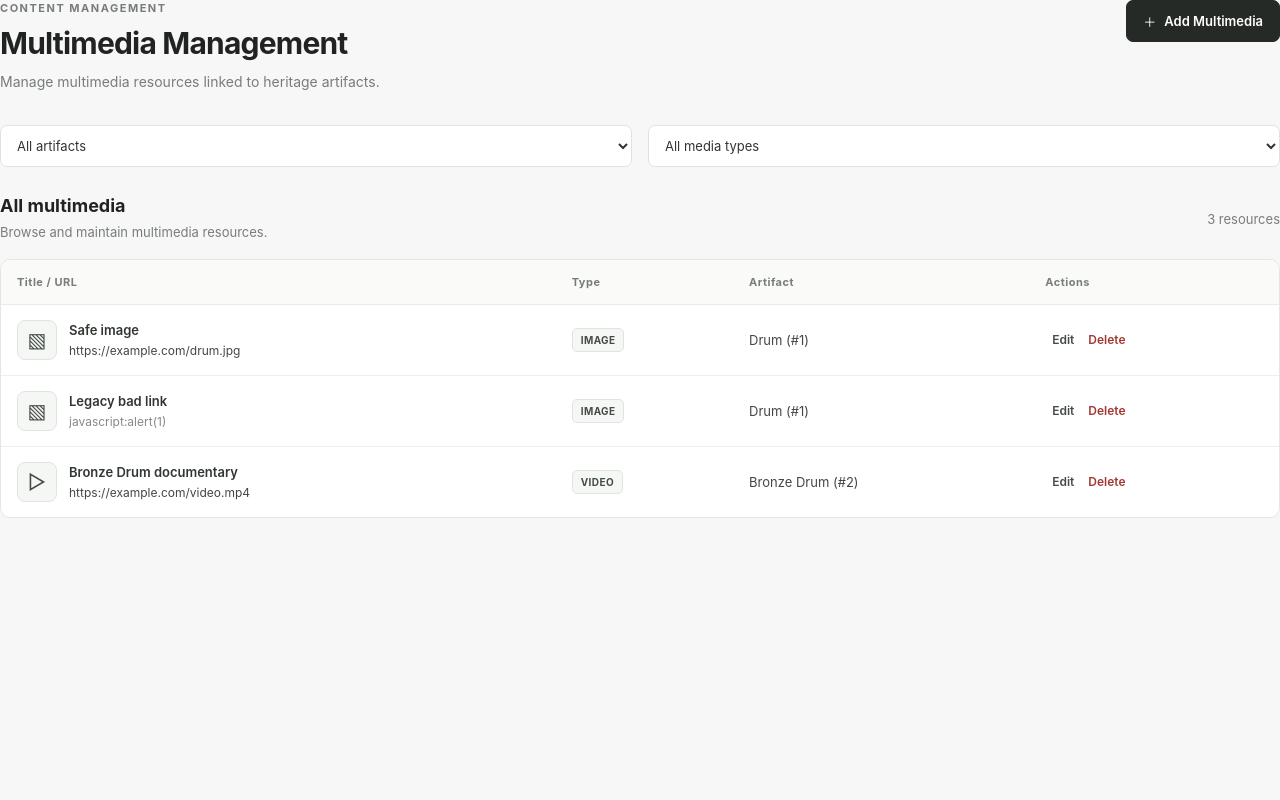
it: MultimediaPage — CRUD and filters › edits an existing resource with the correct PUT path and relationship
This screenshot has width=1280, height=800.
Click the button "Edit" in the row of "Safe image". click: [1063, 340]
box: [1045,327,1081,352]
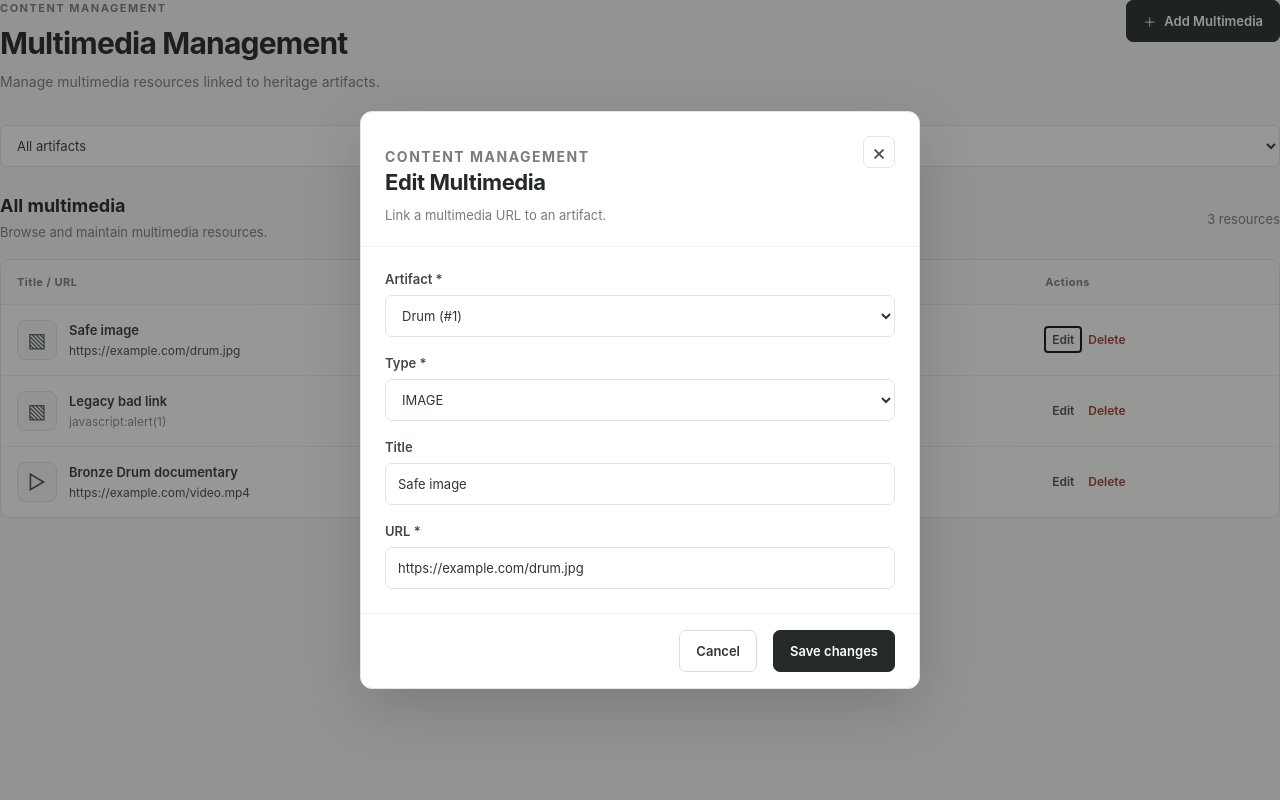
Expected: the heading "Edit Multimedia" is shown, [385,169,546,195]
Expected: the dropdown labelled "Artifact *" shows "Drum (#1)"
Expected: the field labelled "URL *" holds "https://example.com/drum.jpg", [385,547,895,589]
Select "Bronze Drum (#2)" in the dropdown labelled "Artifact *". click: [640, 316]
box: [385,295,895,337]
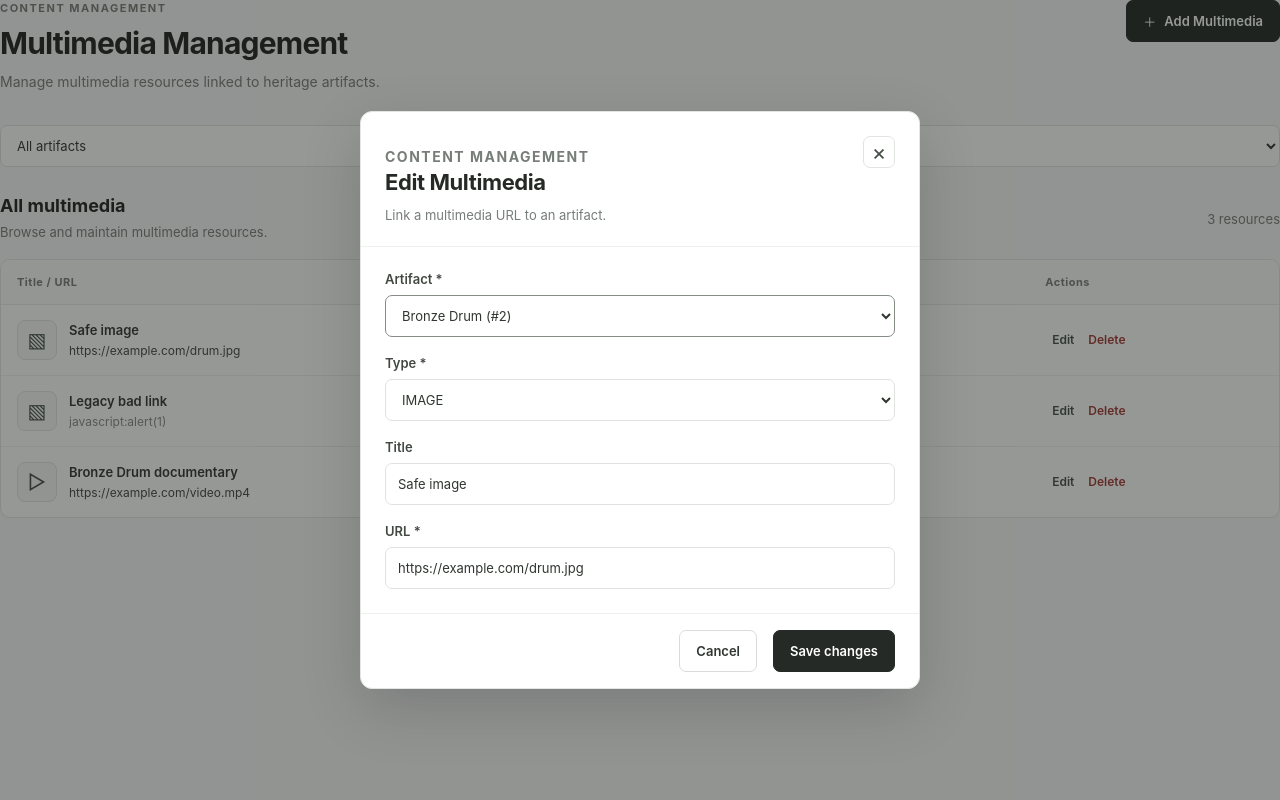
Select "VIDEO" in the dropdown labelled "Type *". click: [640, 400]
box: [385,379,895,421]
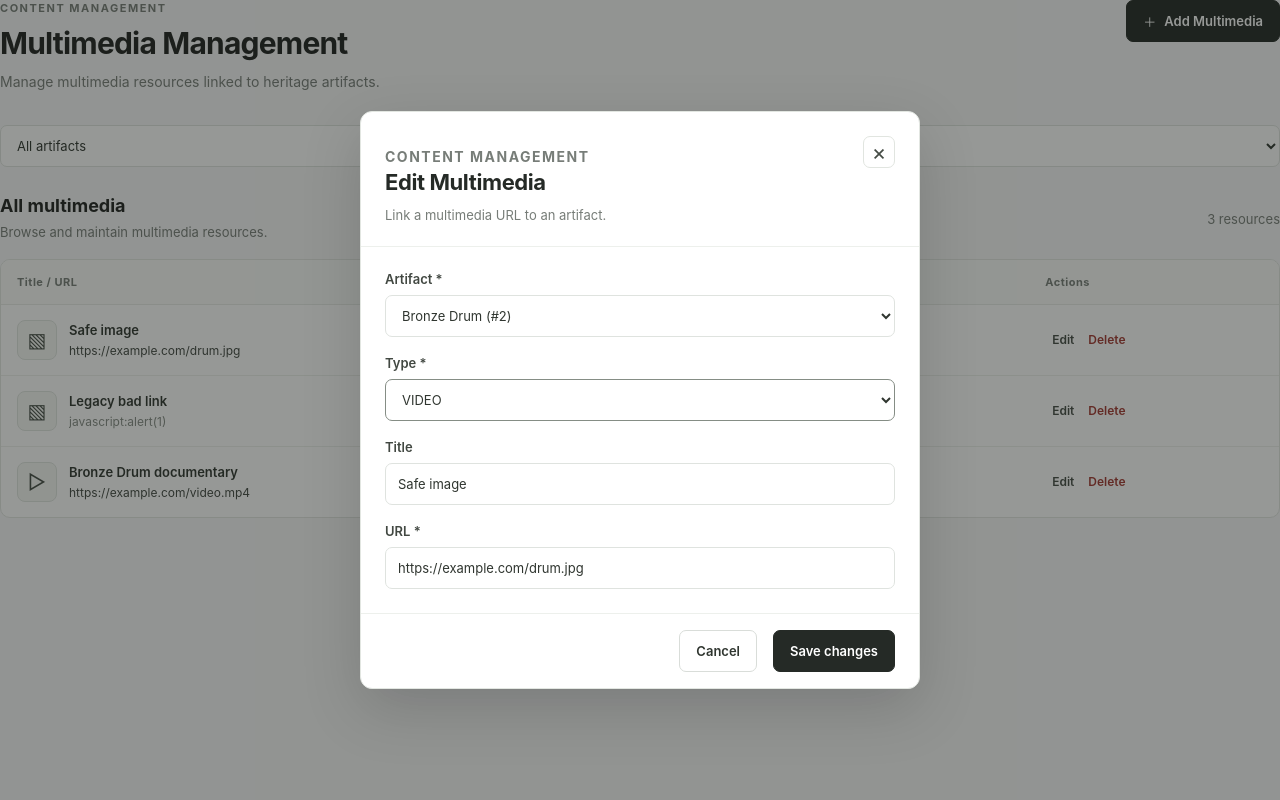
Replace the text in the field labelled "Title" with "Updated documentary". click: [640, 484]
box: [385,463,895,505]
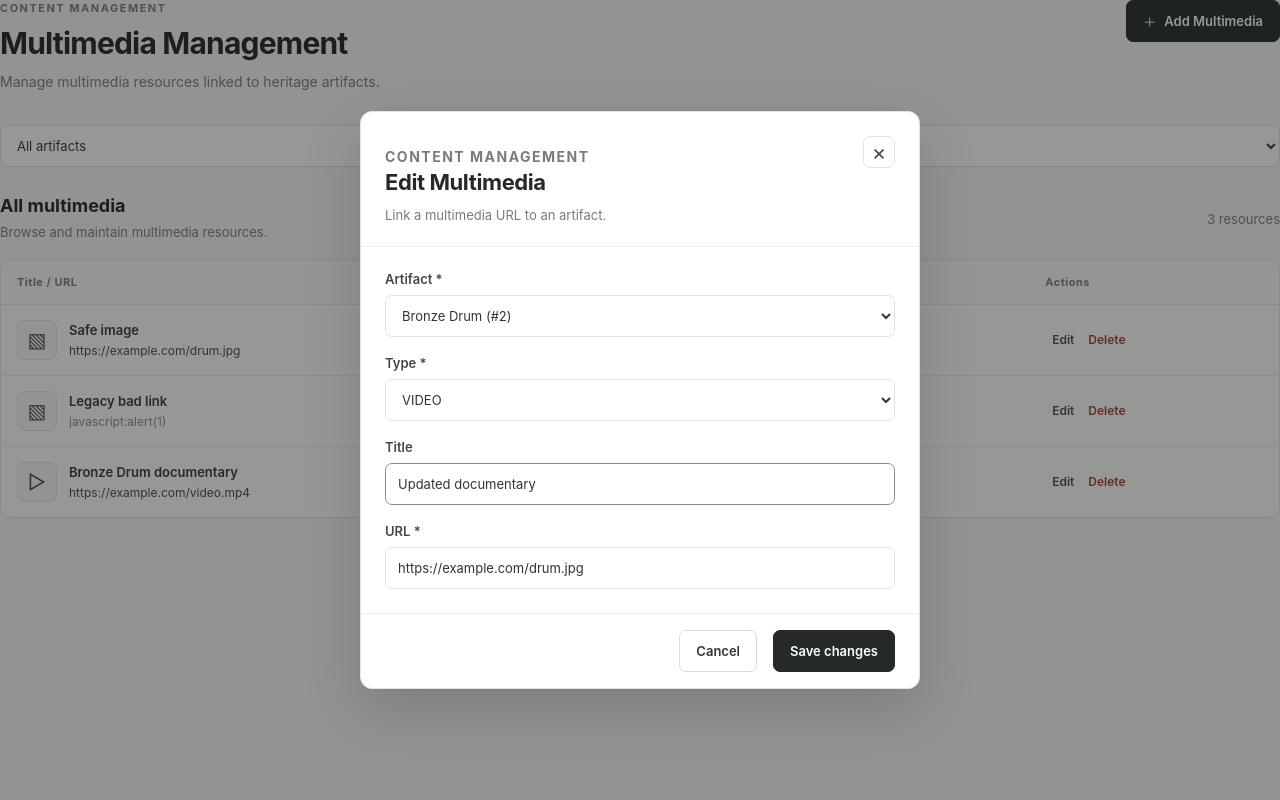
Click the button "Save changes". click: [834, 651]
box: [773,630,895,672]
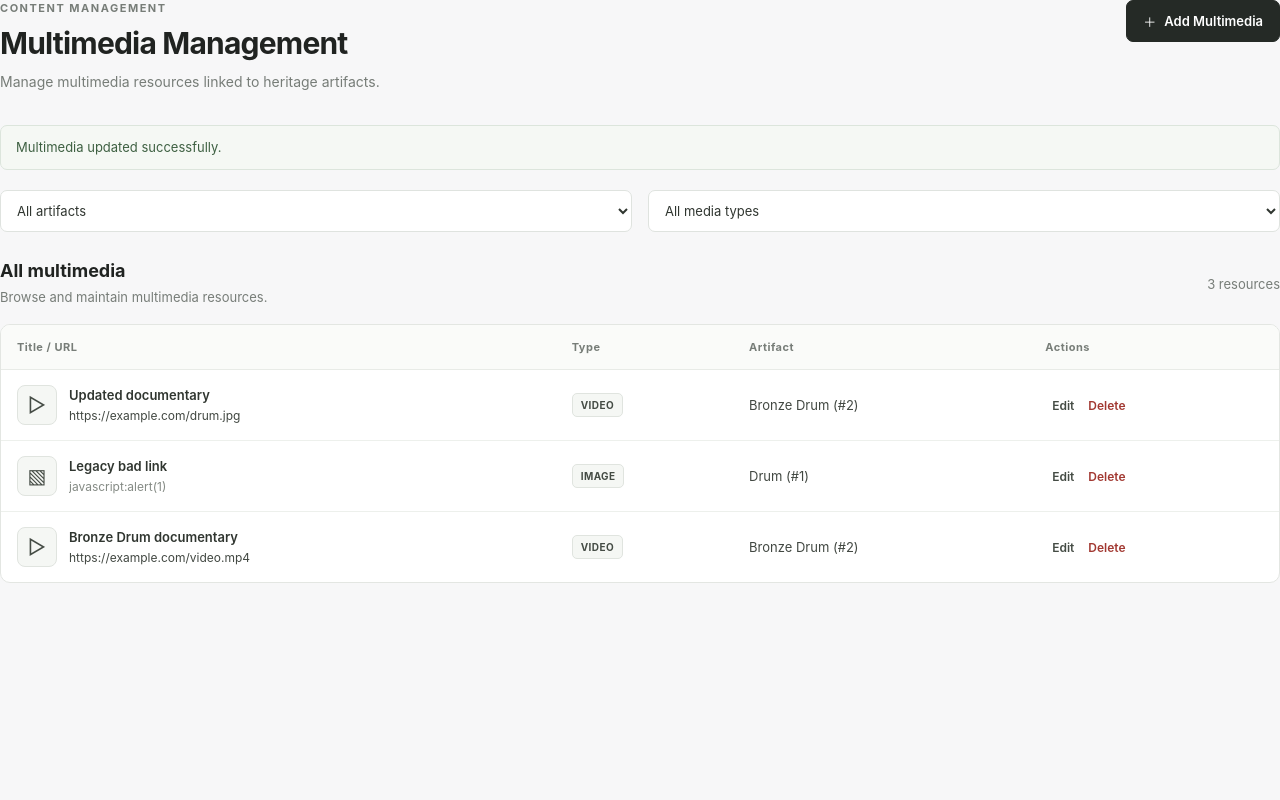
Expected: the text "Multimedia updated successfully." is shown, [0,125,1279,170]
